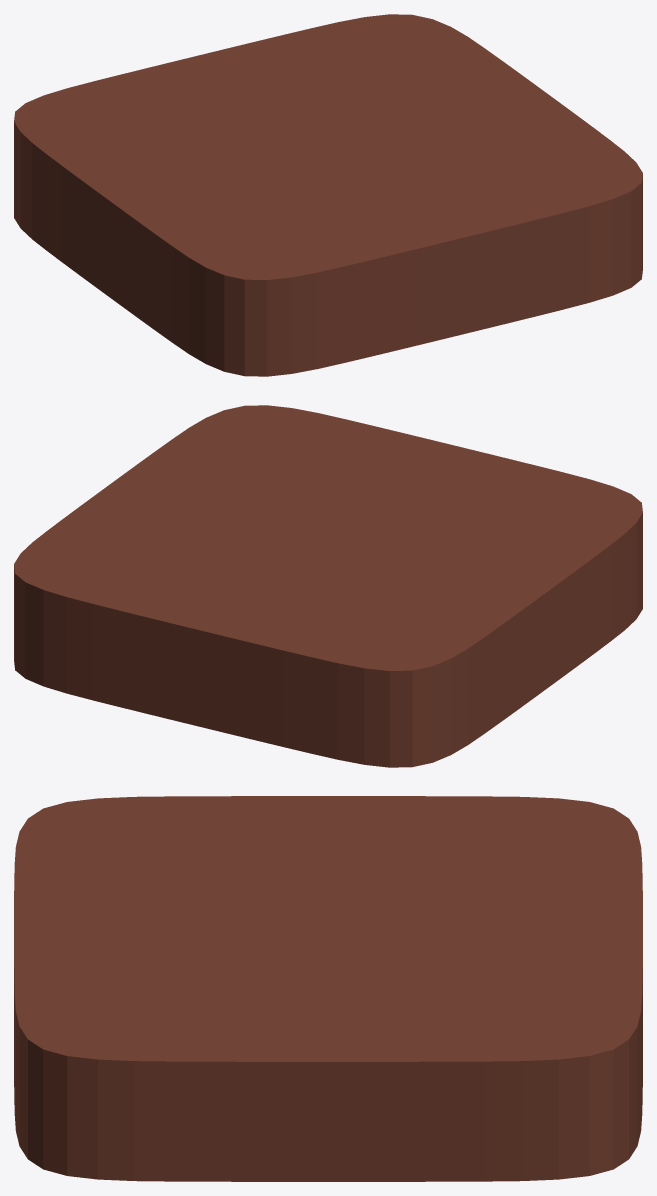
File: tile_blank_2.glb
3 renders of one model, top to bottom at view 1: azimuth 30°, elevation 25°; view 2: azimuth 150°, elevation 25°; view 3: azimuth 270°, elevation 25°, orthographic. The views are drawn at different scales.
Parts seen in each view (by area): view 1: obj_tile_blank_2; view 2: obj_tile_blank_2; view 3: obj_tile_blank_2.
Boxes of the visible parts, x1=… form: obj_tile_blank_2: x1=14, y1=14, x2=642, y2=376; obj_tile_blank_2: x1=14, y1=405, x2=642, y2=767; obj_tile_blank_2: x1=14, y1=796, x2=642, y2=1181.
Bounding box in the file's own units: 0.95 × 0.2 × 0.95.
